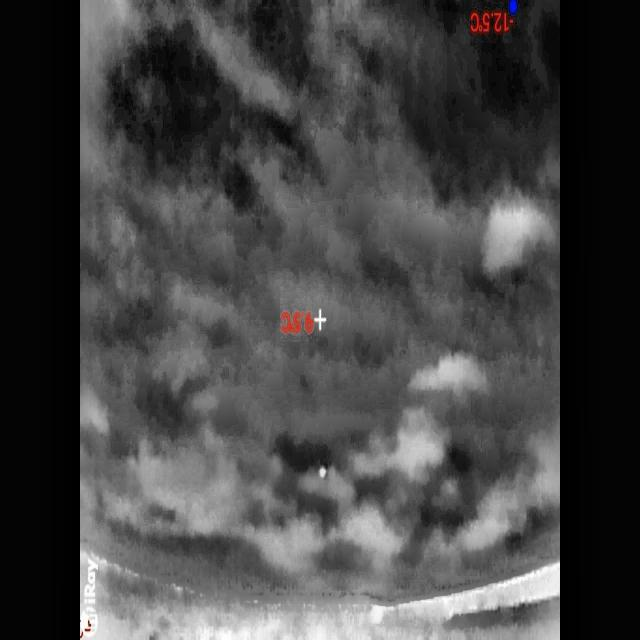drone: (319, 464, 328, 480)
